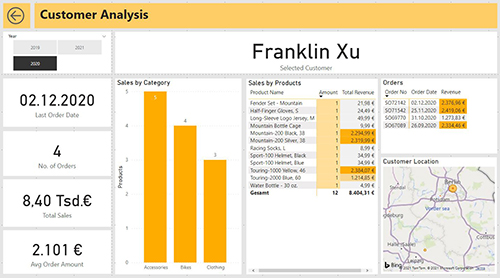

The page's visual inventory and layout, read from the dashboard file:
{"tool":"powerbi","page":{"name":"Drilltrough \"Customers\"","canvas":[1280,720],"ordinal":2},"visuals":[{"type":"textbox","box":[91.9,10.4,1178.8,64],"z":0},{"type":"card","fields":{"Values":["DIM_Customers.Full Name"]},"box":[297.3,83.6,973.4,106.3],"z":1000},{"type":"slicer","fields":{"Values":["Date.Year"]},"box":[11.4,83.6,274.6,106.3],"z":2000},{"type":"card","fields":{"Values":["Analysis Metrics.LastOrderDate"]},"box":[11.3,202.3,274.6,122.8],"z":3000},{"type":"card","fields":{"Values":["Analysis Metrics.OrderCount"]},"box":[11.3,336.5,274.6,113.5],"z":4000},{"type":"columnChart","title":"Sales by Category","fields":{"Category":["DIM_Products.Product Category"],"Y":["Analysis Metrics.SalesbyProduct"]},"box":[297.3,202.3,322.1,498.6],"z":5000},{"type":"card","fields":{"Values":["Analysis Metrics.Sales"]},"box":[11.3,459.4,274.6,120.8],"z":6000},{"type":"pivotTable","title":"Sales by Products","fields":{"Values":["Analysis Metrics.SalesbyProduct","Analysis Metrics.Sales"],"Rows":["DIM_Products.Product Name"]},"box":[630.7,203.4,335.5,497.5],"z":7000},{"type":"actionButton","box":[11.4,10.4,69.2,64],"z":8000},{"type":"card","fields":{"Values":["Analysis Metrics.AvgSumOrder"]},"box":[11.3,589.4,274.6,111.5],"z":9000},{"type":"pivotTable","title":"Orders","fields":{"Values":["FACT_InternetSales.OrderDateKey","Analysis Metrics.Sales"],"Rows":["FACT_InternetSales.SalesOrderNumber"]},"box":[974.5,202.3,296.3,191],"z":10000},{"type":"map","title":"Customer Location","fields":{"Size":["Analysis Metrics.Sales"],"Category":["DIM_Customers.Customer City"]},"box":[974.5,403.6,295.2,297.3],"z":11000}]}

Visuals, with their boxes in screenshot pixels (x1, y1, x2, y2), scaled from the page's 1280x720 canvas onto the 500x278 screenshot:
textbox: (36, 4, 496, 29)
card - DIM_Customers.Full Name: (116, 32, 496, 73)
slicer - Date.Year: (4, 32, 112, 73)
card - Analysis Metrics.LastOrderDate: (4, 78, 112, 126)
card - Analysis Metrics.OrderCount: (4, 130, 112, 174)
"Sales by Category" columnChart: (116, 78, 242, 271)
card - Analysis Metrics.Sales: (4, 177, 112, 224)
"Sales by Products" pivotTable: (246, 79, 377, 271)
actionButton: (4, 4, 31, 29)
card - Analysis Metrics.AvgSumOrder: (4, 228, 112, 271)
"Orders" pivotTable: (381, 78, 496, 152)
"Customer Location" map: (381, 156, 496, 271)
